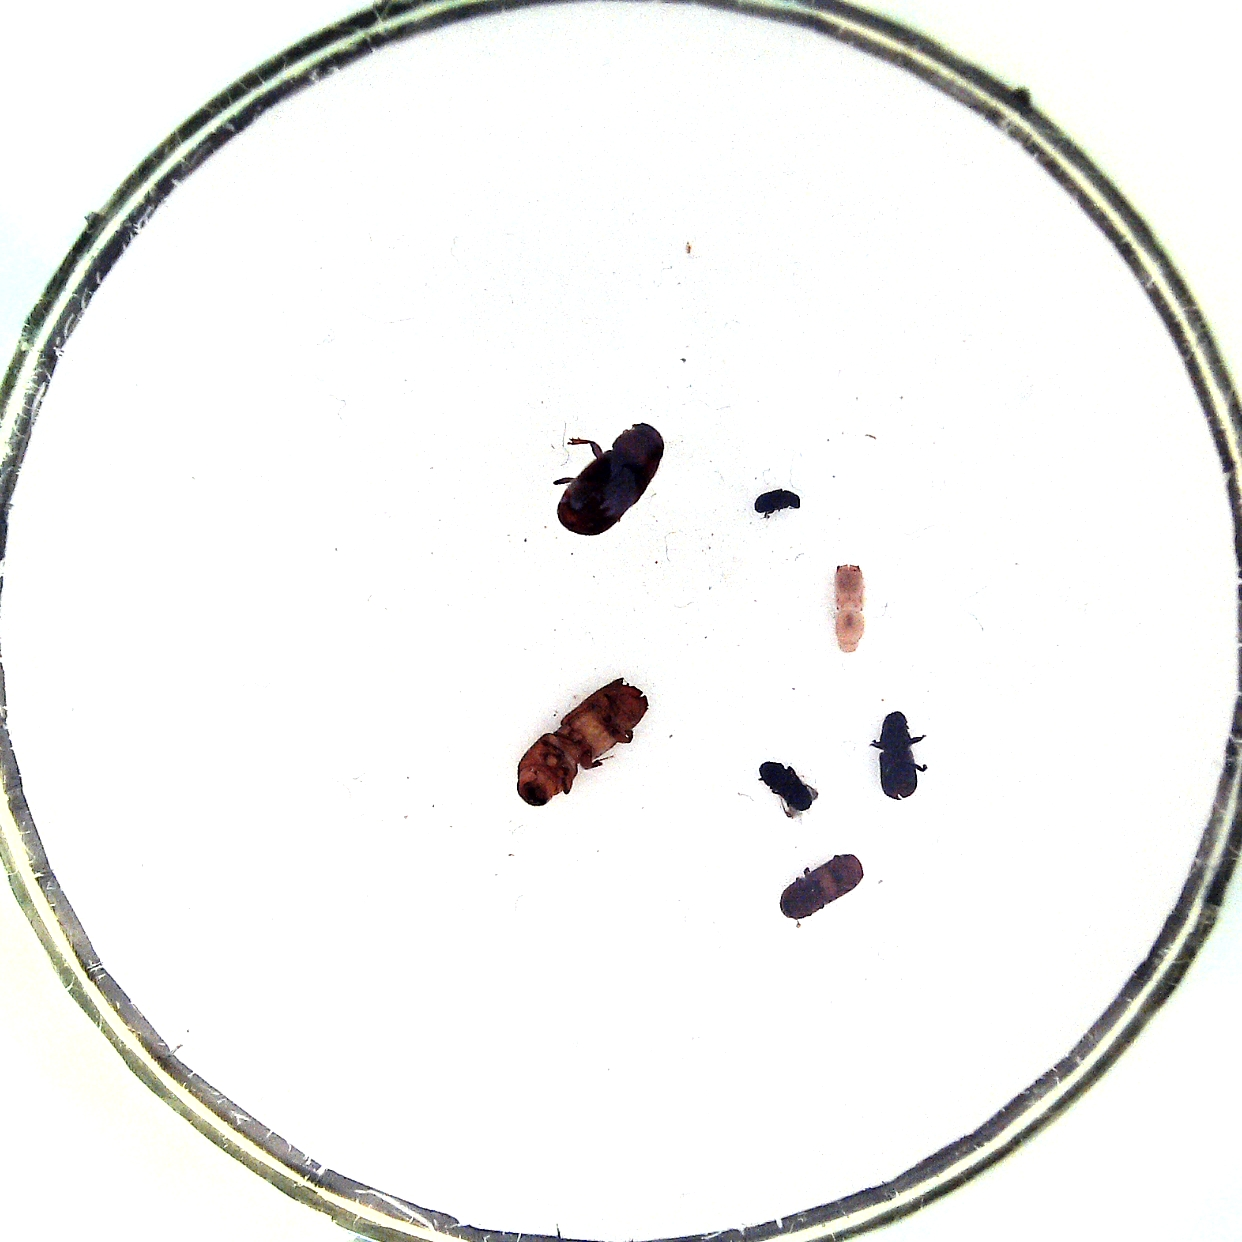Boerner: (511, 670, 657, 813)
Leconte: (550, 416, 671, 541)
Linnaeus: (775, 848, 871, 926)
acuminatus: (823, 558, 875, 657)
armandi: (871, 707, 930, 806)
coleoptera: (750, 752, 827, 820), (748, 482, 804, 521)
